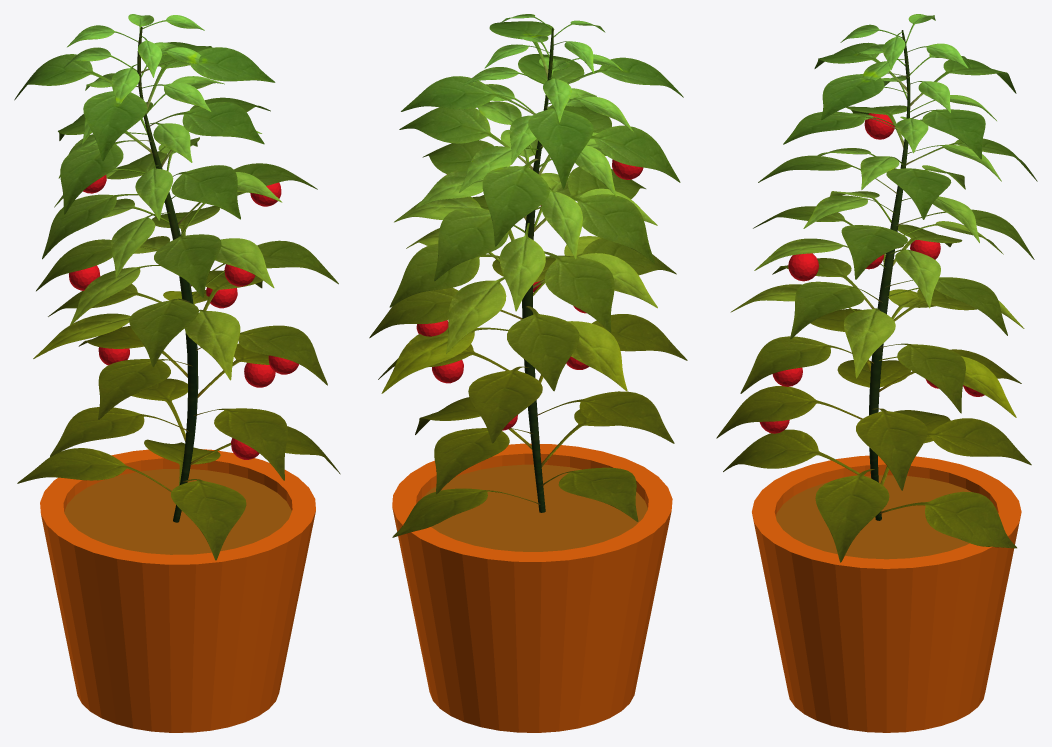
Rendered from plant_ripe.fbx.
The picture shows the model from 3 angles, left to right: view 1: azimuth 30°, elevation 25°; view 2: azimuth 150°, elevation 25°; view 3: azimuth 270°, elevation 25°; orthographic projection. The views are drawn at different scales.
Visible parts, largest first — view 1: Circle, Pot, Plane.001, Tomato.005; view 2: Circle, Pot, Plane.001, Tomato.005; view 3: Circle, Pot, Plane.001, Tomato.003, Tomato.008.
Part boxes in pixels (left/top/right/bottom): Circle: left=14, top=14, right=340, bottom=560; Pot: left=40, top=449, right=315, bottom=732; Plane.001: left=137, top=27, right=198, bottom=522; Tomato.005: left=244, top=362, right=275, bottom=387; Circle: left=369, top=14, right=687, bottom=537; Pot: left=392, top=443, right=672, bottom=732; Plane.001: left=522, top=28, right=553, bottom=512; Tomato.005: left=432, top=360, right=463, bottom=383; Circle: left=716, top=14, right=1037, bottom=562; Pot: left=752, top=455, right=1021, bottom=732; Plane.001: left=869, top=30, right=910, bottom=520; Tomato.003: left=788, top=253, right=818, bottom=281; Tomato.008: left=864, top=113, right=894, bottom=139.
Bounding box in the file's own units: 53.79 × 123 × 55.14.
5 materials, 2 textured.
